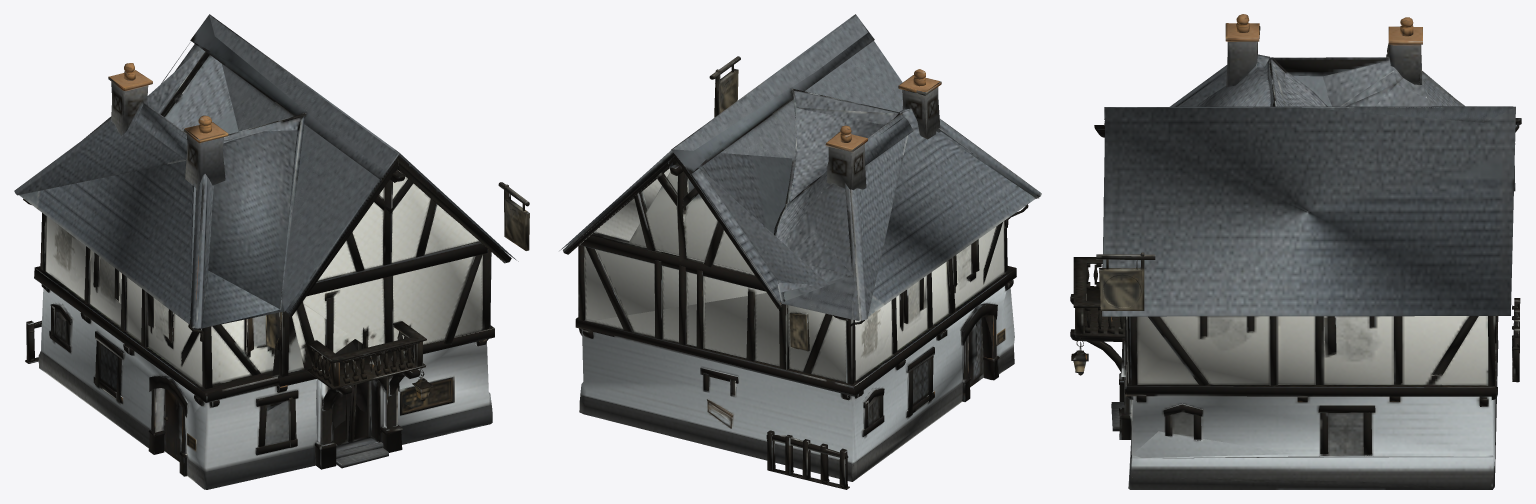
File: tavern_aldmark.glb
3 views of the same model, side by side, from view 1: azimuth 30°, elevation 25°; view 2: azimuth 150°, elevation 25°; view 3: azimuth 270°, elevation 25° (orthographic). The views are drawn at different scales.
Bounding box in the file's own units: 0.854 × 0.8149 × 0.9458.
1 material, 1 textured.
